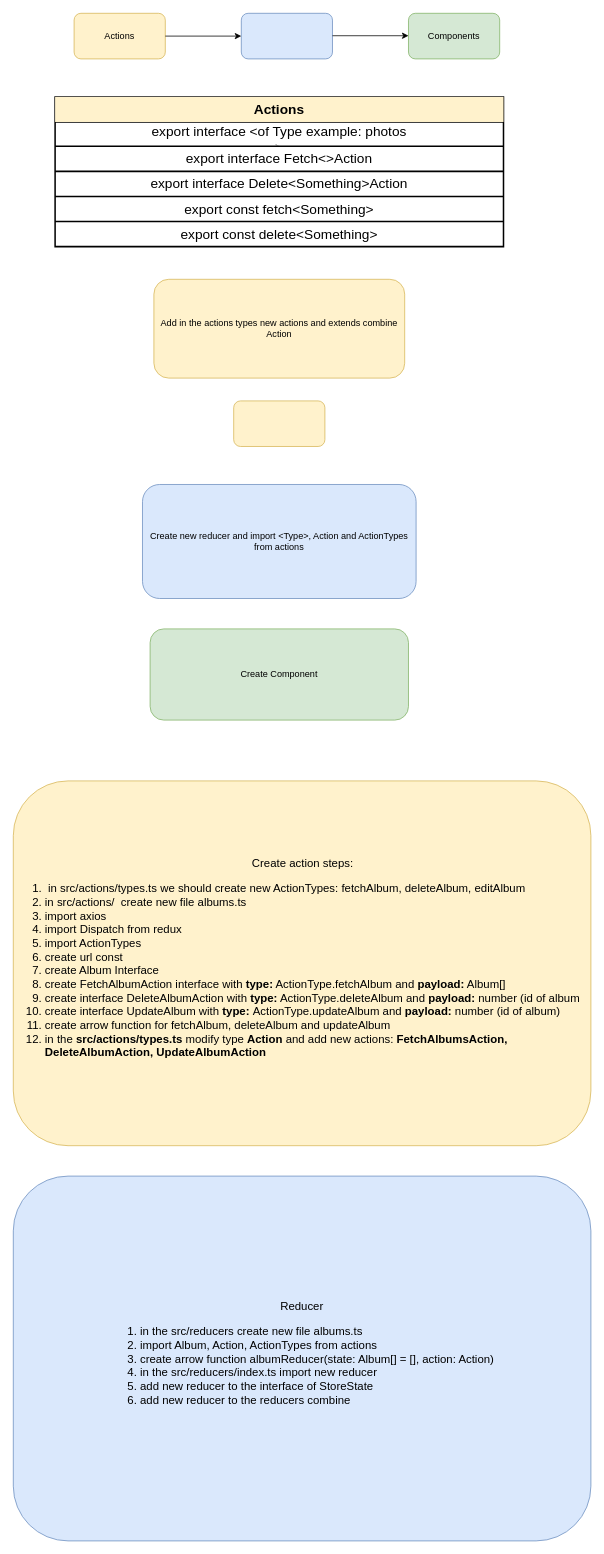
This 604x1554 diagram has some shape labels left out. Each missing label, with the box of its shape:
in index.ts file of actions add export * from new action: (233, 400, 325, 446)
Reducers: (241, 13, 332, 59)
